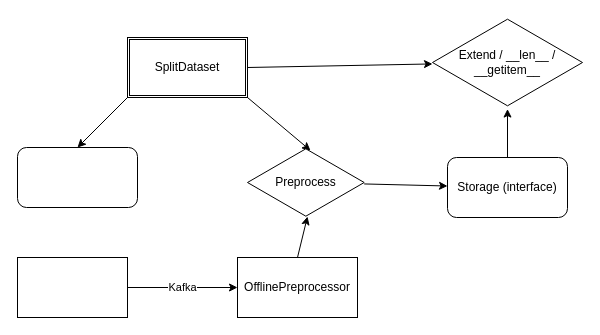
This 600x335 diagram has some shape labels left out. Each missing label, with the centre of its shape:
"Feeder" belongs at [72,287].
"Queriable" belongs at [77,177].
